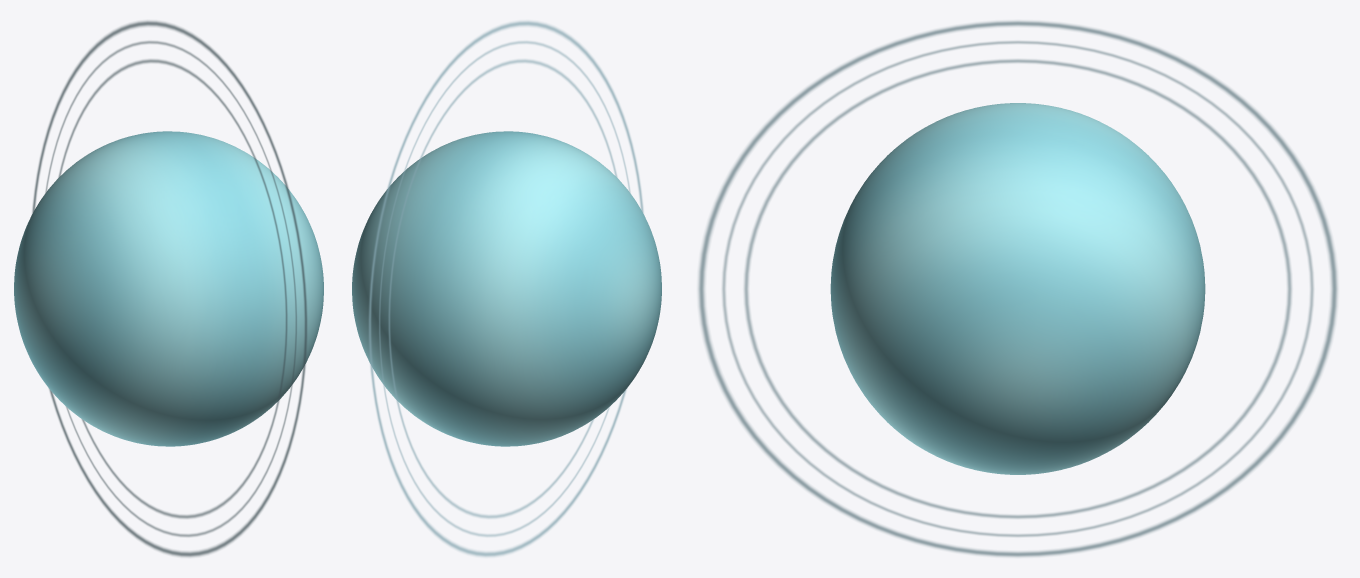
The model's file is urano.glb.
3 views of the same model, side by side, from view 1: azimuth 30°, elevation 25°; view 2: azimuth 150°, elevation 25°; view 3: azimuth 270°, elevation 25° (orthographic). The views are drawn at different scales.
Parts seen in each view (by area): view 1: urano_planeta, urano_aneis; view 2: urano_planeta, urano_aneis; view 3: urano_planeta, urano_aneis.
Boxes of the visible parts, x1=… form: urano_planeta: x1=14, y1=131, x2=323, y2=446; urano_aneis: x1=32, y1=20, x2=307, y2=557; urano_planeta: x1=352, y1=131, x2=661, y2=446; urano_aneis: x1=368, y1=20, x2=643, y2=557; urano_planeta: x1=830, y1=103, x2=1205, y2=474; urano_aneis: x1=698, y1=20, x2=1337, y2=557.
Size of the model in its own units: 1.95 by 3.47 by 3.5.
2 materials, 2 textured.
